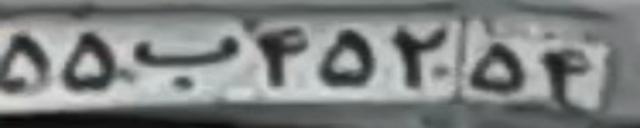2: (391, 25, 448, 87)
4: (254, 26, 308, 87), (542, 48, 586, 103)
5: (60, 29, 116, 91), (0, 29, 52, 93), (320, 29, 375, 87), (468, 39, 529, 90)
be: (124, 31, 246, 90)
